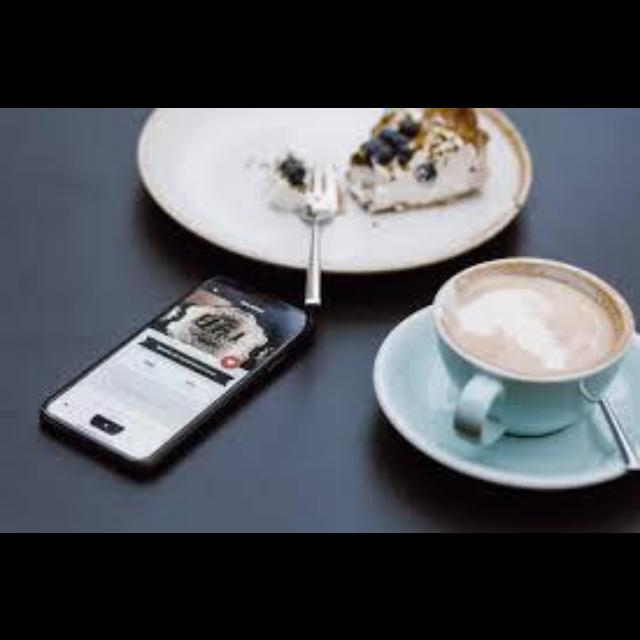Phone: (38, 270, 334, 466)
